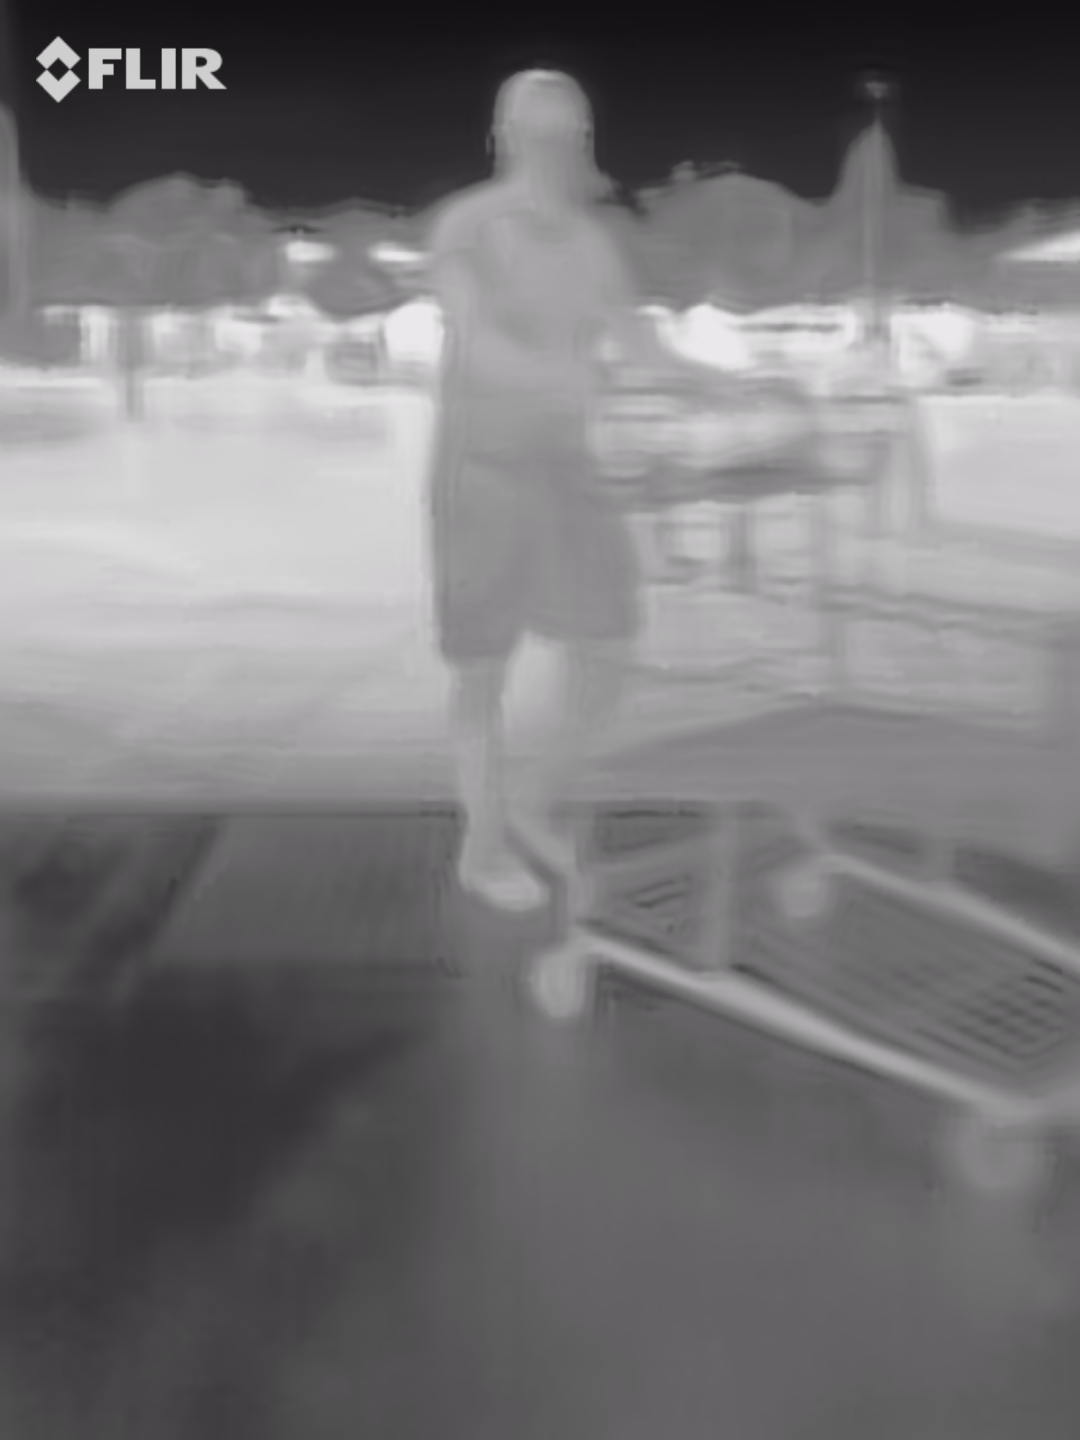head: (489, 69, 590, 193)
